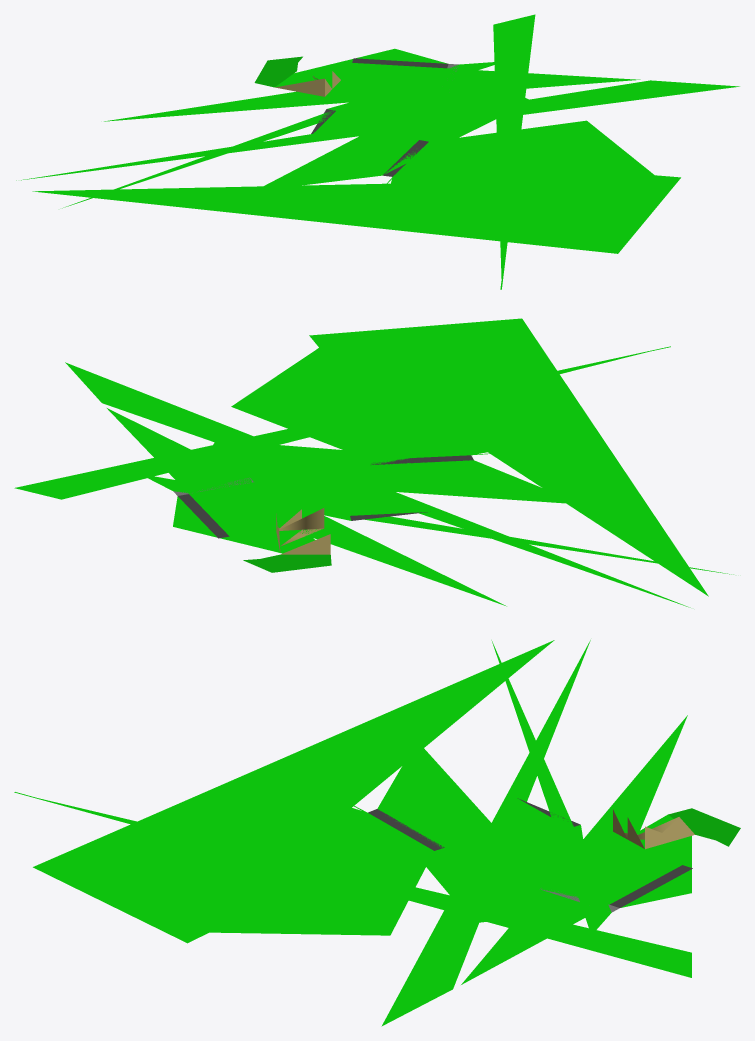
3 renders of one model, top to bottom at view 1: azimuth 30°, elevation 25°; view 2: azimuth 150°, elevation 25°; view 3: azimuth 270°, elevation 25°, orthographic. The views are drawn at different scales.
Size of the model in its own units: 274 by 7.5 by 217.
